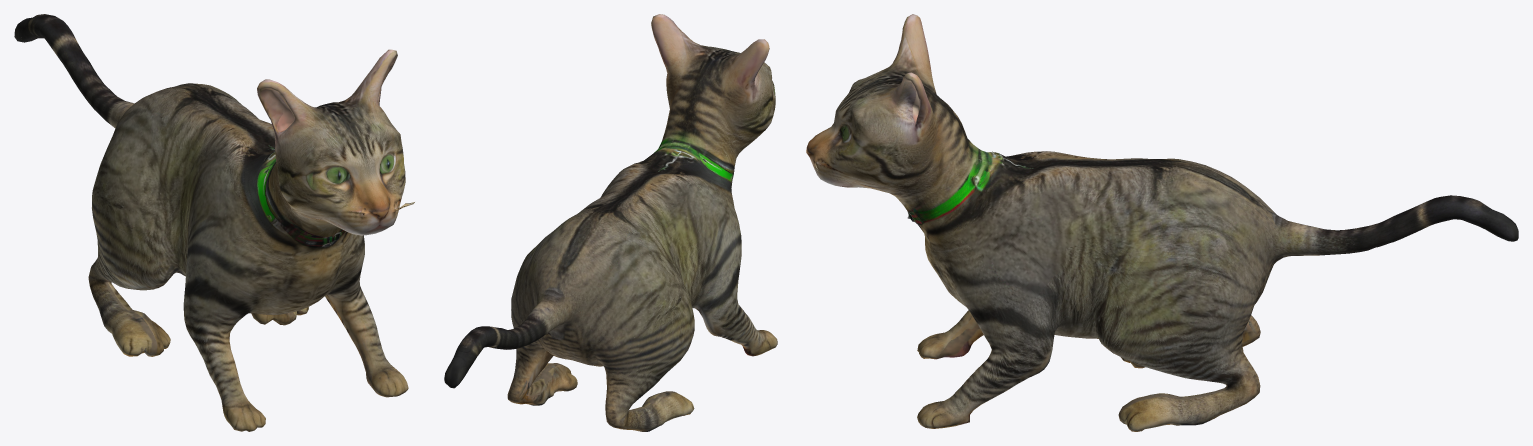
Rendered from merlin.glb.
The picture shows the model from 3 angles, left to right: view 1: azimuth 30°, elevation 25°; view 2: azimuth 150°, elevation 25°; view 3: azimuth 270°, elevation 25°; orthographic projection. The views are drawn at different scales.
Size of the model in its own units: 0.5843 by 1.07 by 1.99.
1 material, 1 textured.
